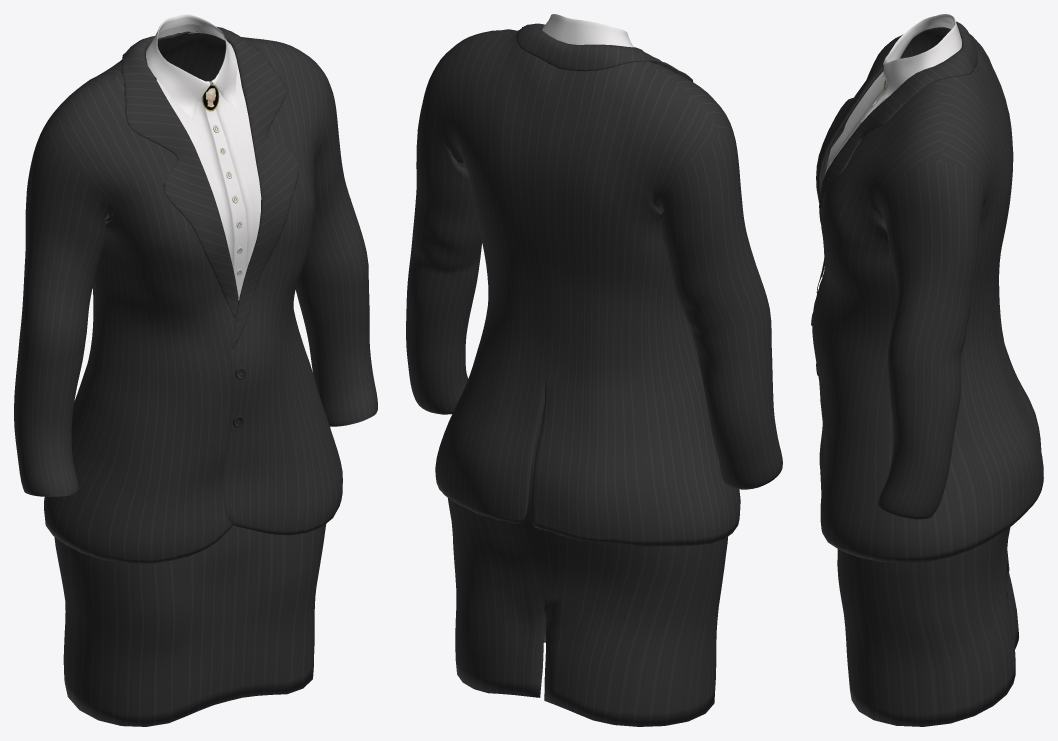
Rendered from full_skirt_suit.gltf.
3 renders of one model, left to right at view 1: azimuth 30°, elevation 25°; view 2: azimuth 150°, elevation 25°; view 3: azimuth 270°, elevation 25°, orthographic. The views are drawn at different scales.
Visible parts, largest first — view 1: full_skirt_suit; view 2: full_skirt_suit; view 3: full_skirt_suit.
Boxes of the visible parts, x1,y1,x2,y2 form: full_skirt_suit: (14,14,377,726); full_skirt_suit: (406,14,782,726); full_skirt_suit: (811,14,1043,726).
Bounding box in the file's own units: 0.5227 × 0.9399 × 0.3038.
Materials: 1 (1 with a texture image).
